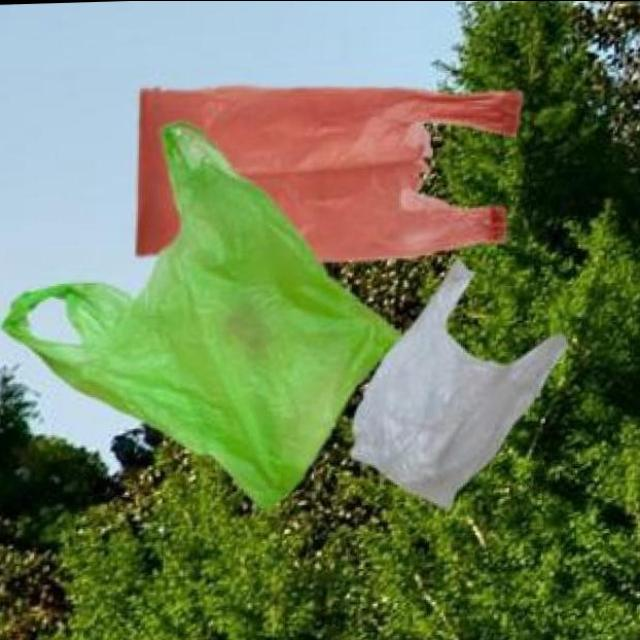plastik: (4, 123, 399, 505), (137, 87, 521, 260), (352, 261, 568, 505)
